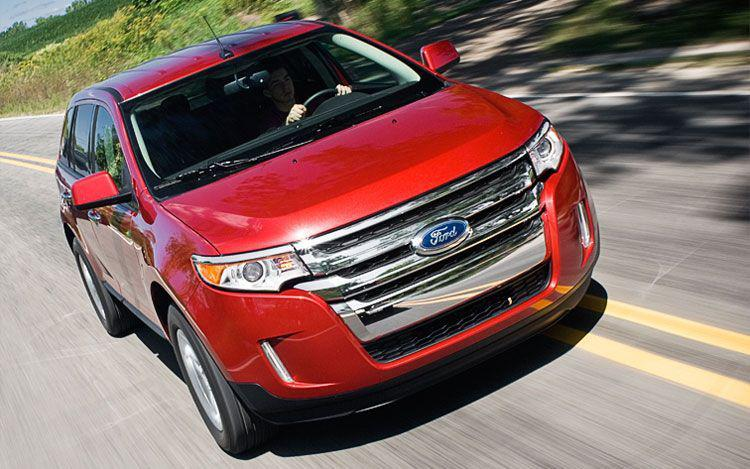Car: (36, 2, 653, 469)
